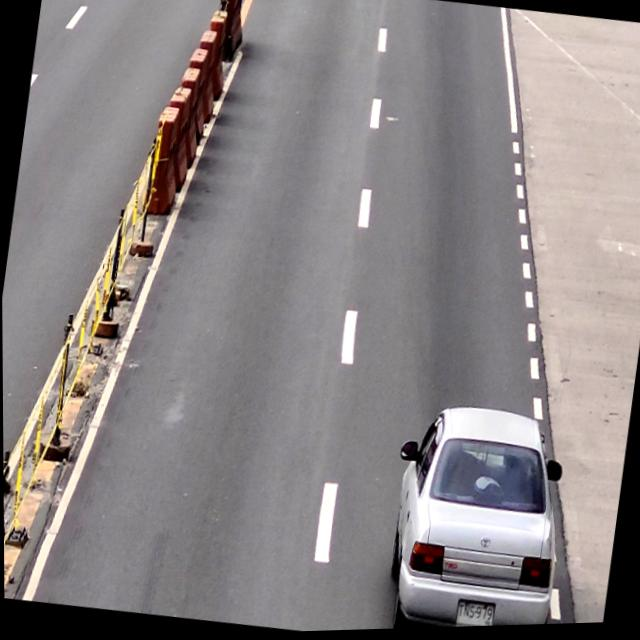Car: (373, 397, 576, 631)
License-Plate: (455, 603, 494, 630)
